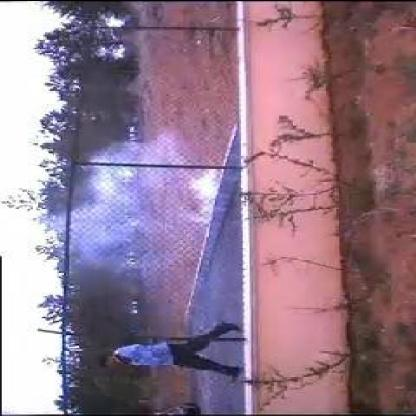-: (71, 157, 215, 275)
